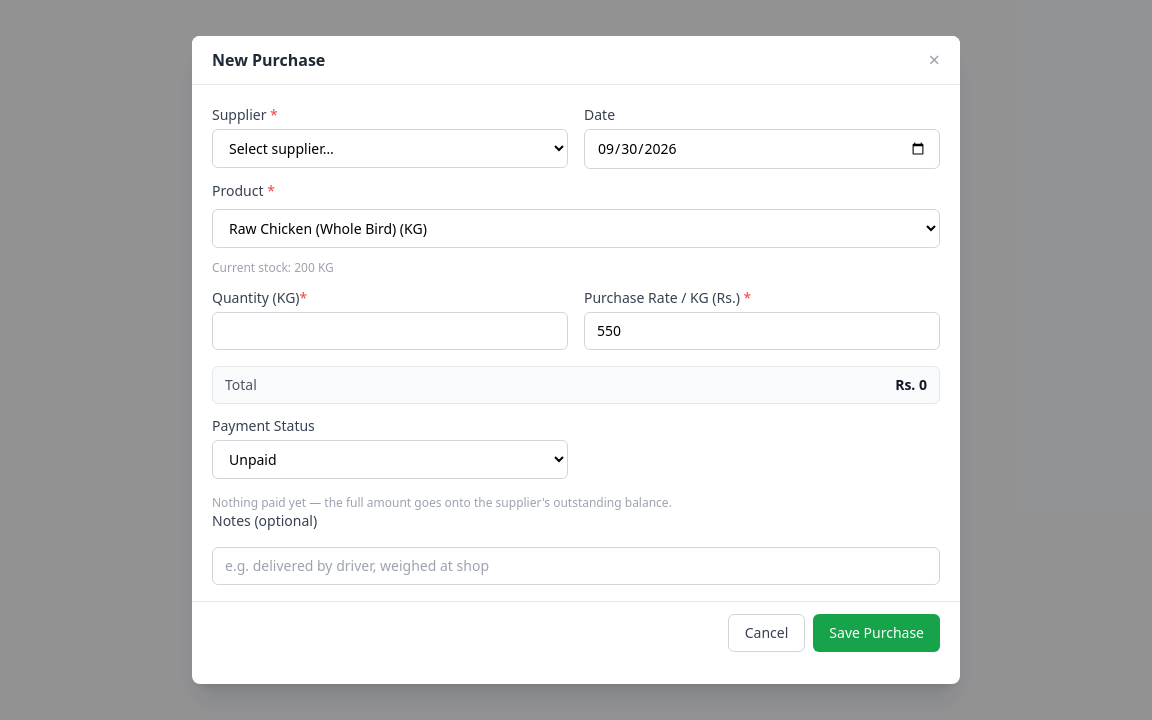
Test case: NewPurchaseModal — primary fields › saves a single-product purchase with the chosen supplier, date and payment status
The width and height of the screenshot is (1152, 720).
Expected: the dropdown named "Product" shows "Raw Chicken (Whole Bird) (KG)", [212,209,940,248]
Select "Ahmed Live Chicken Supplier" in the dropdown named "Supplier" at (390, 148), box [212,129,568,168]
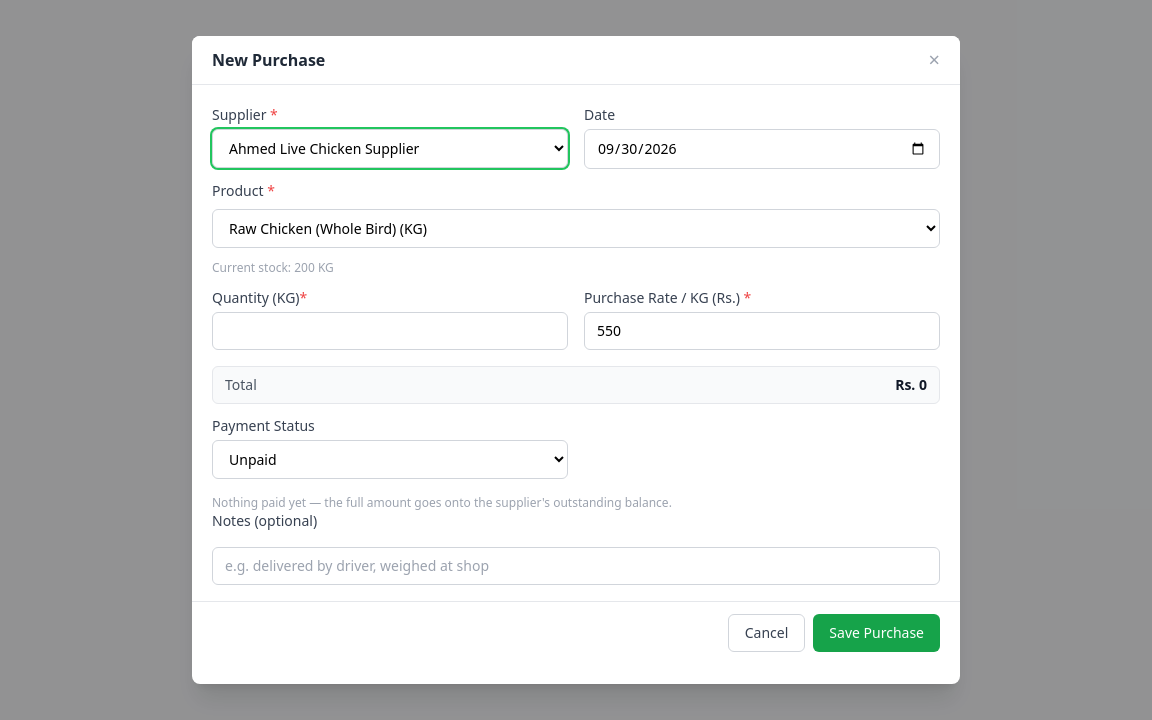
Type "500" into the number field named "Quantity" at (390, 331), box [212,312,568,350]
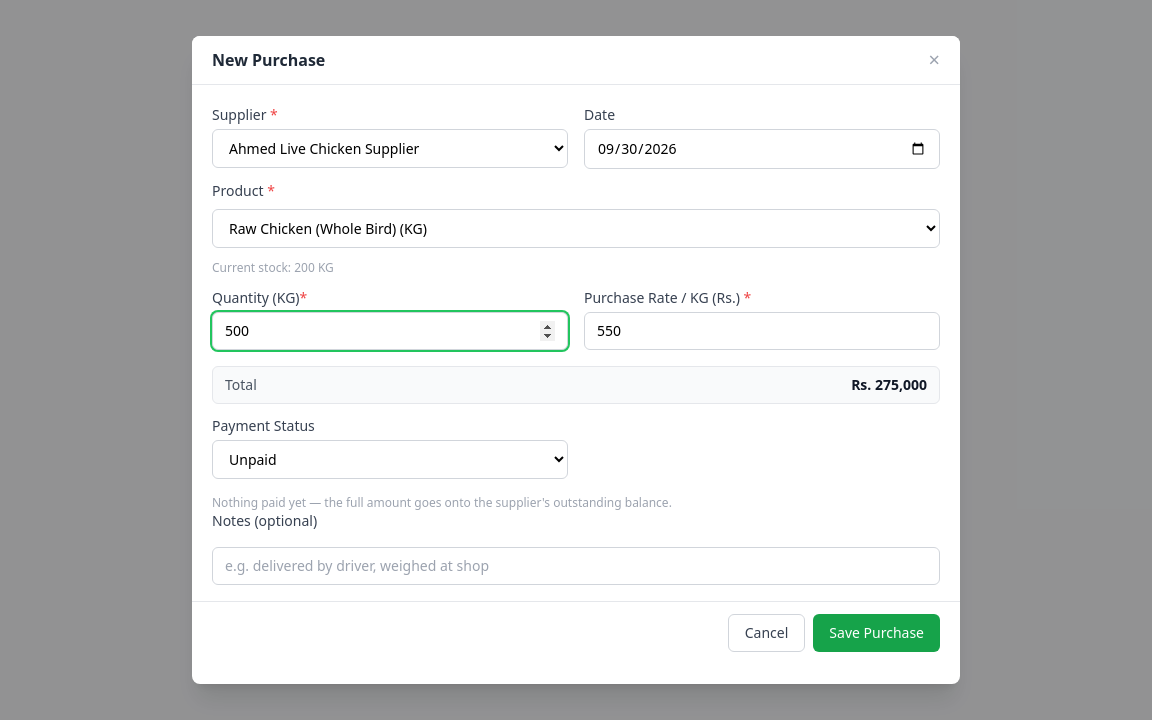
Select "Paid in Full" in the dropdown named "Payment Status" at (390, 460), box [212,440,568,479]
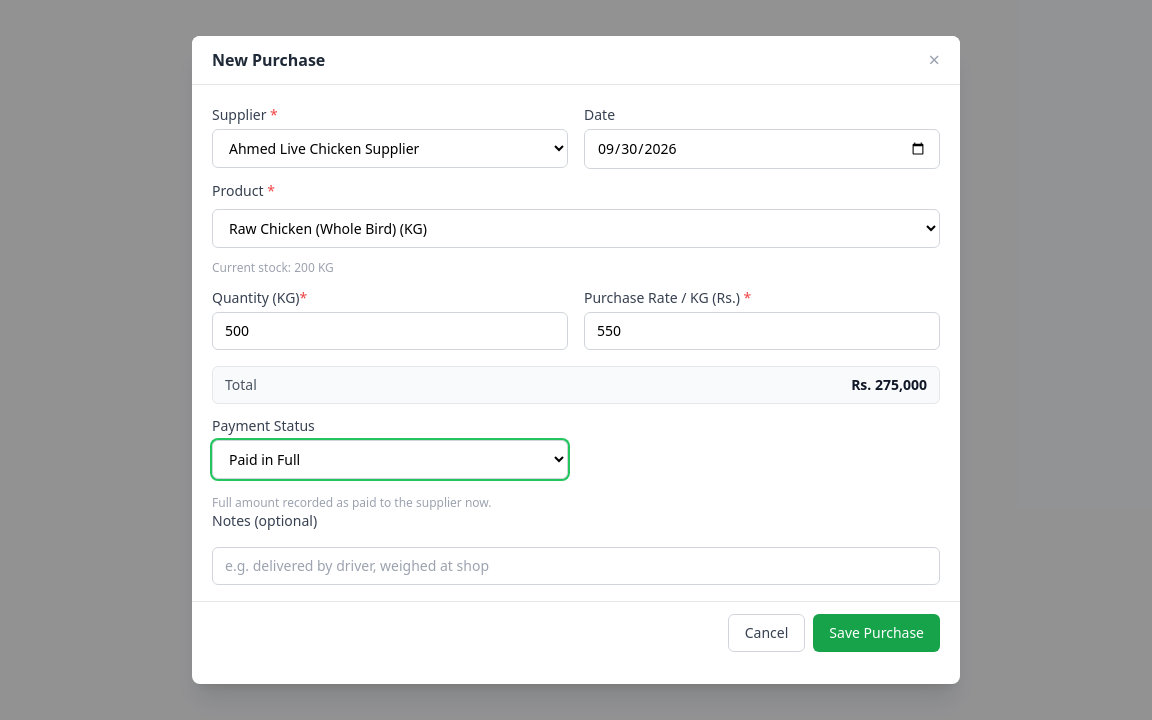
Click the button "Save Purchase" at (877, 633), box [813,614,940,652]
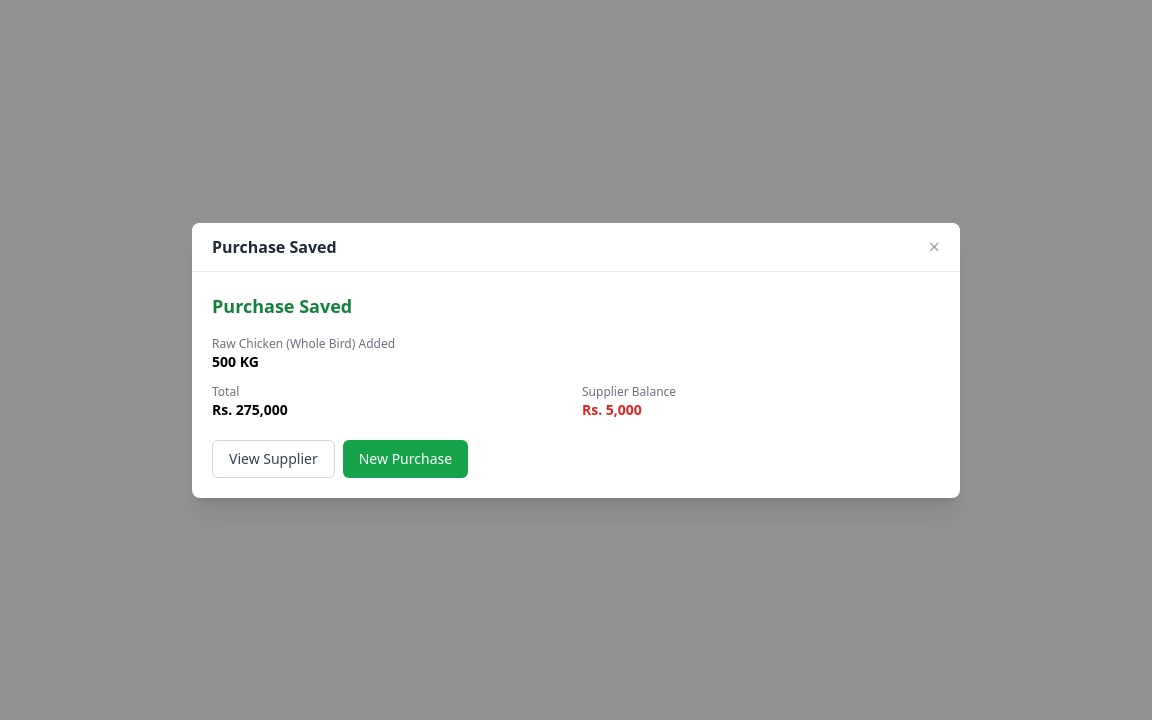
Now the button "New Purchase" is shown, box [343,440,468,478]
